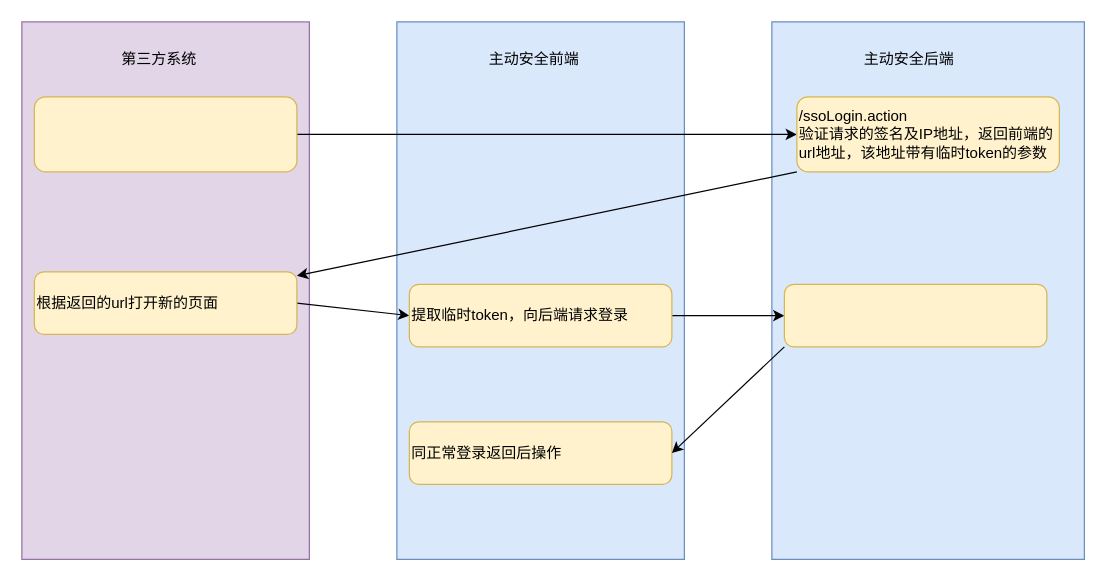
Image size: 1106x581. Some labels were removed from this diagram. Each missing label, with the centre of its shape:
"/appQrLogin.action 该接口返回值同正常登录的接口" goes at point (915, 315).
"请求临时登录用token，及前端url， 参数：用户登录名、签名" goes at point (165, 134).
